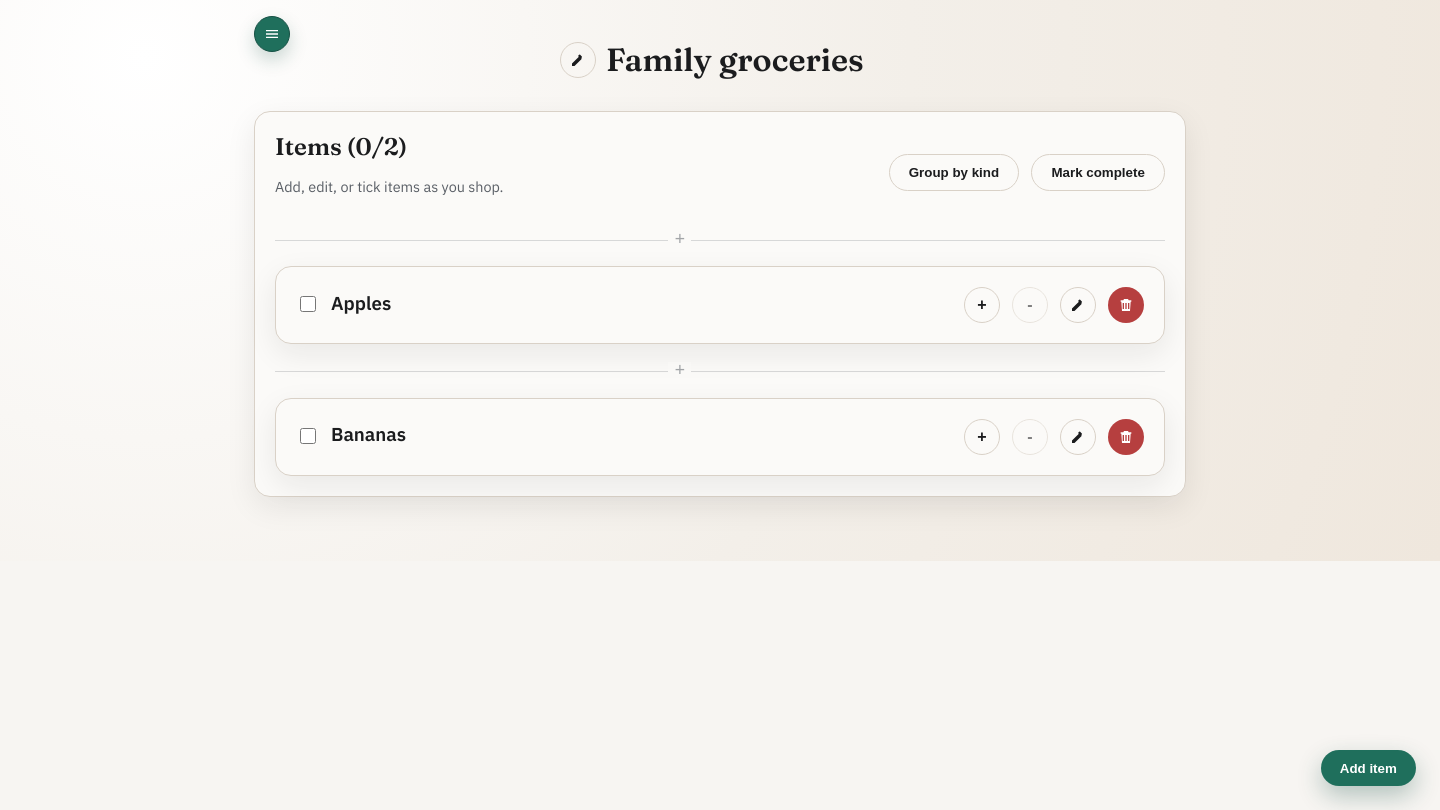
Test: ListDetail route › renames the parent entity
The width and height of the screenshot is (1440, 810).
Expected: the heading "Apples" is shown, [331,291,391,315]
Step 1. Click the button named "Edit list name" → coordinates (578, 60), box [560,42,596,78]
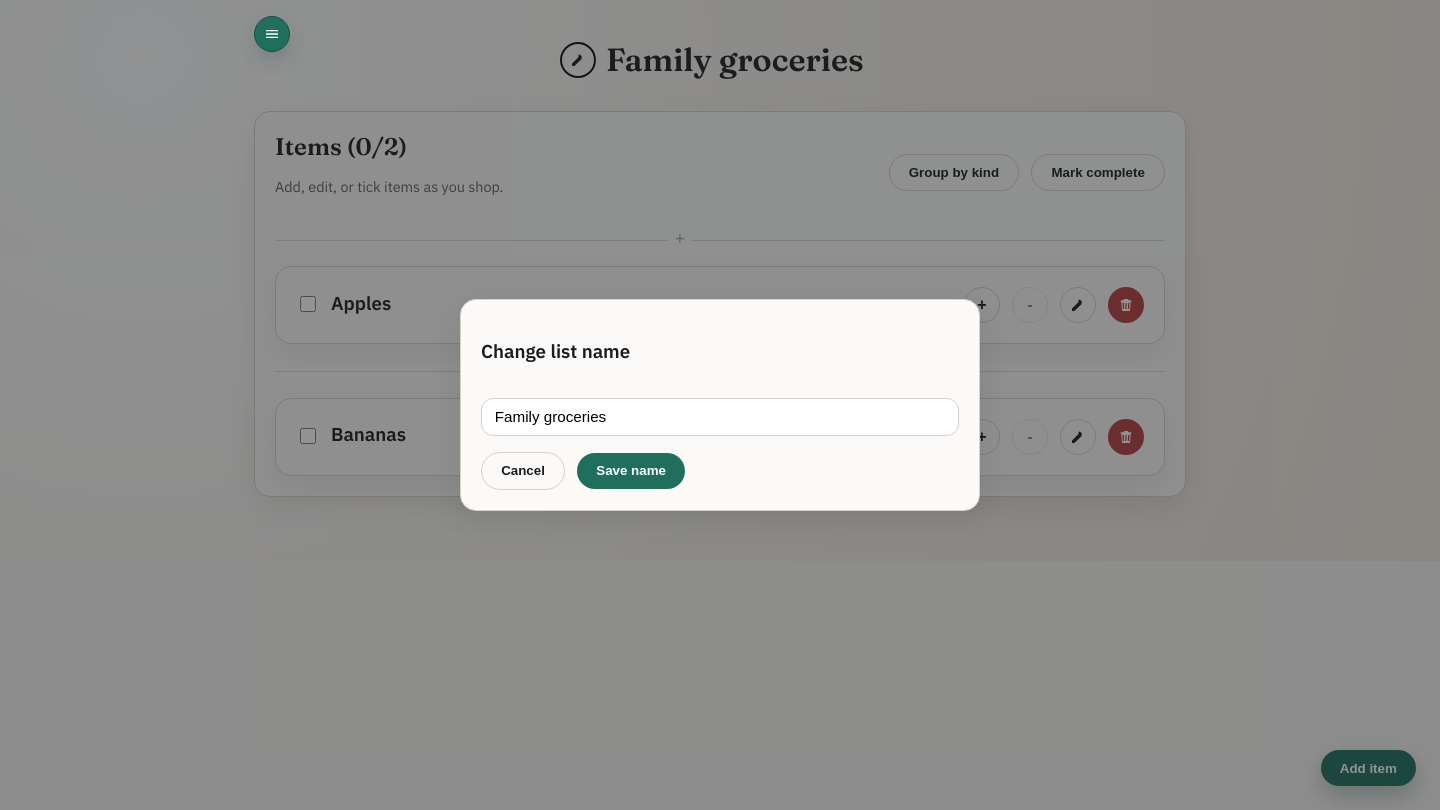
Step 2. Replace the text in the field showing "Family groceries" with "Renamed entry" → coordinates (720, 417), box [481,398,959,436]
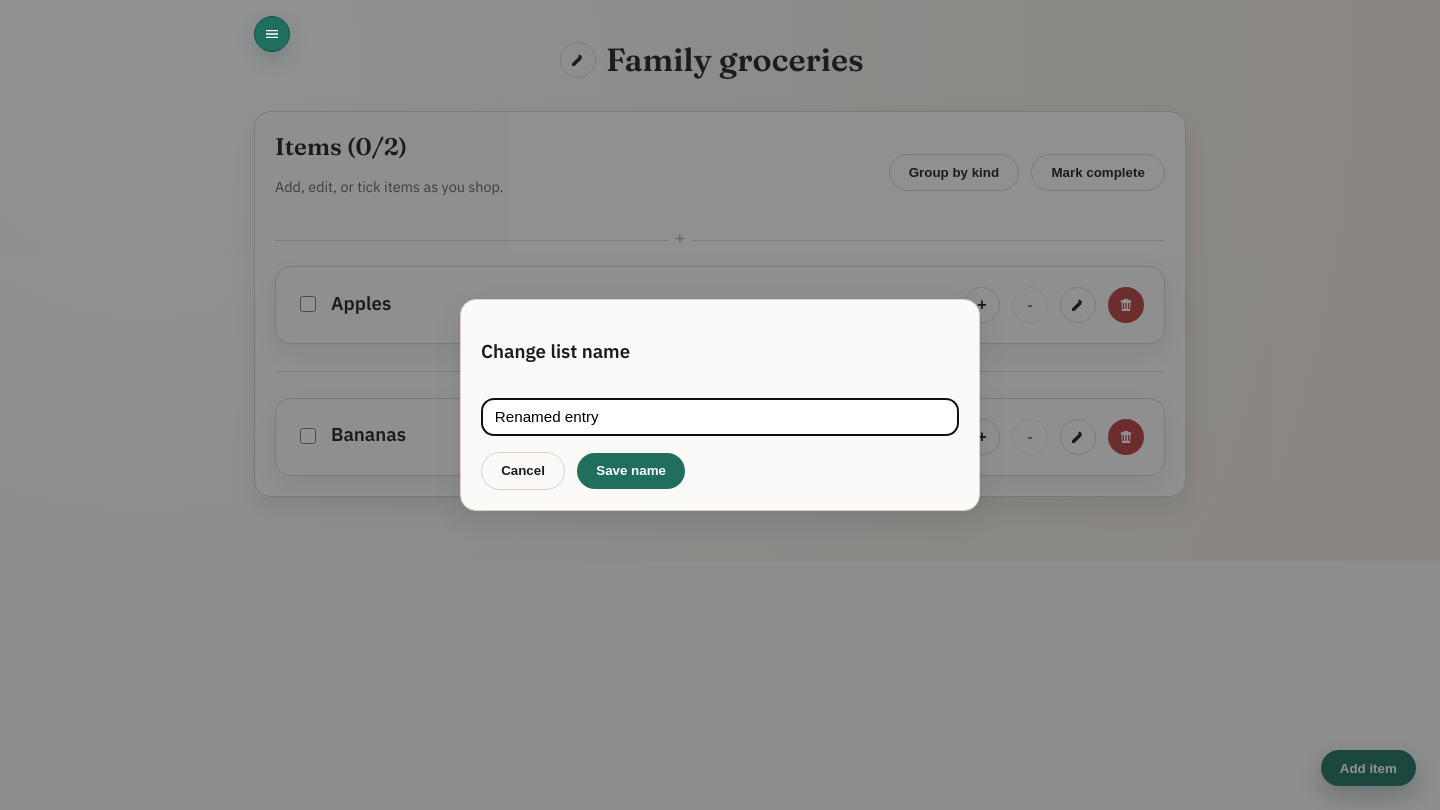
Step 3. Click the button "Save name" → coordinates (631, 471), box [577,453,685,489]
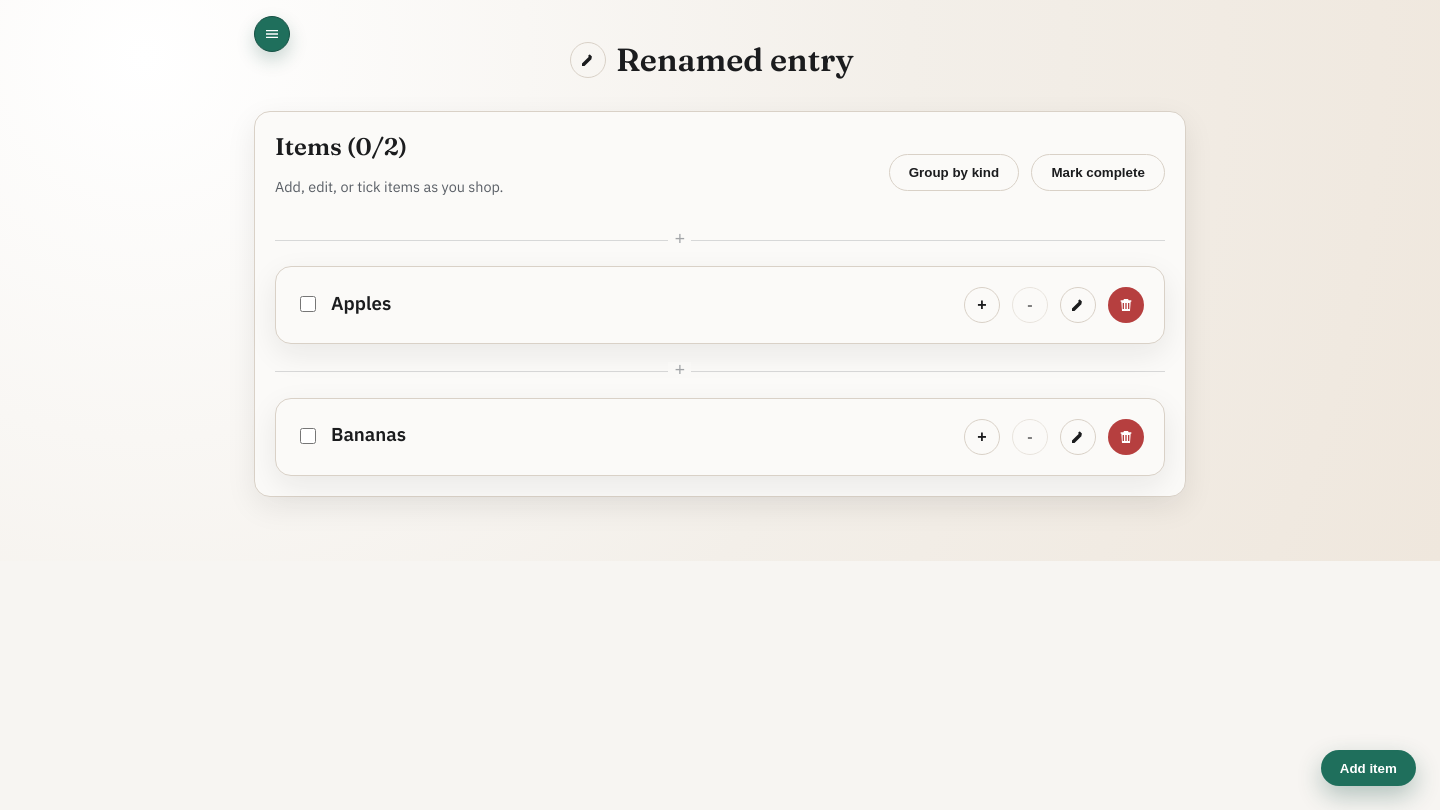
Now the heading "Renamed entry" is shown, box [616,40,854,79]
